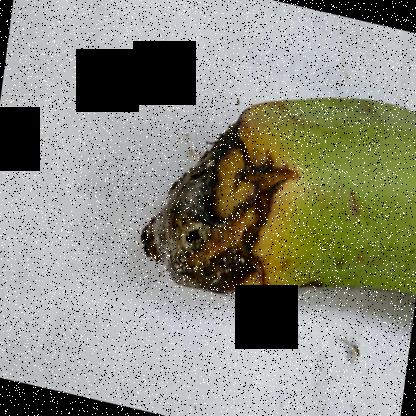rotten: (126, 74, 310, 323)
